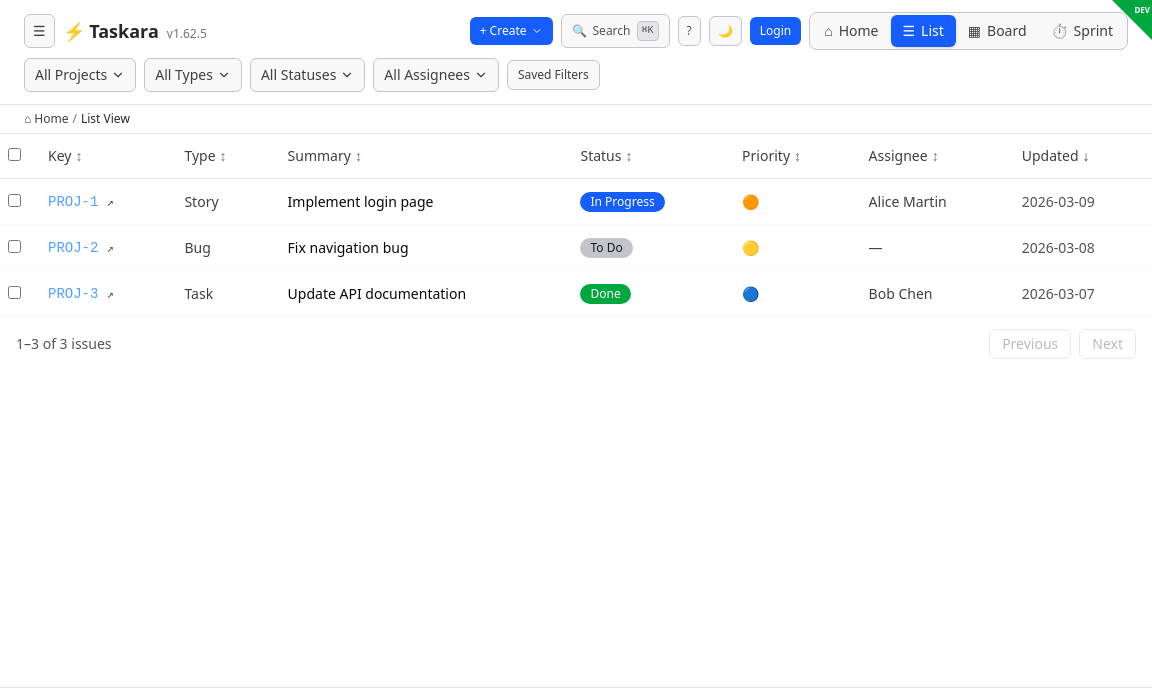
Feature: Rich text description editing › Scenario: Edit button always shown for description › Given the issue has no ADF description, then the Edit button still appears and opens the rich text editor
Click the text "PROJ-1". click: (576, 202)
box: [0,178,1151,224]
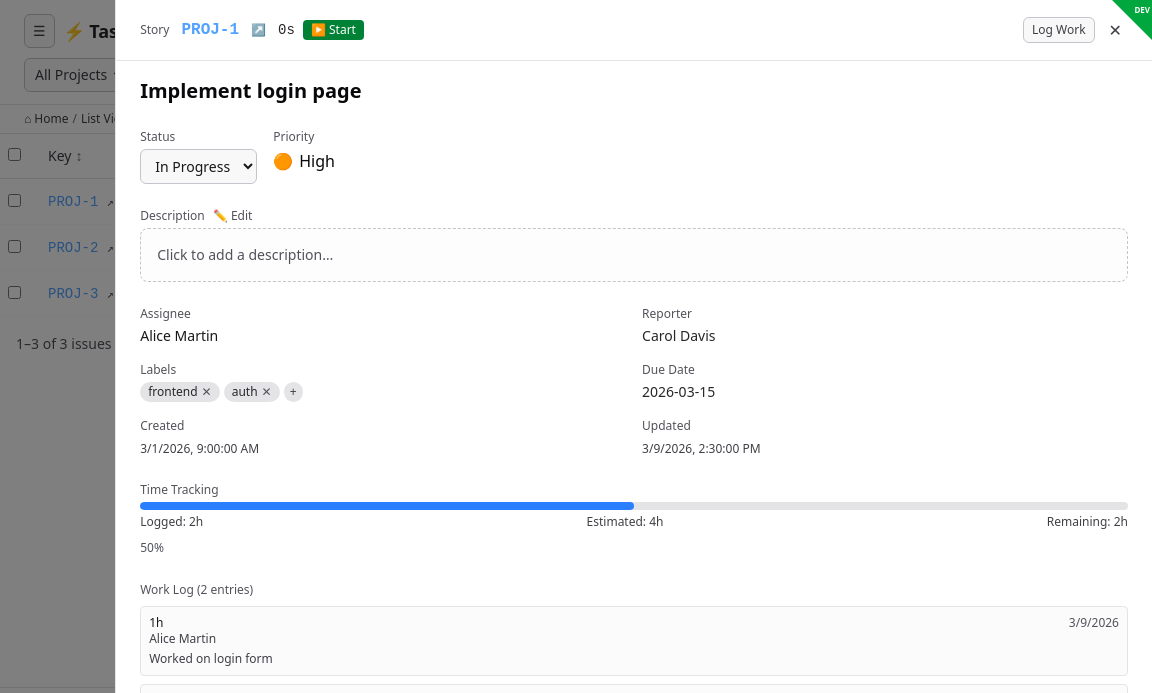
Now the button titled "Edit description" is shown
# Clicking opens the rich text editor
Click the button titled "Edit description". click: (233, 216)
box: [213,208,252,224]
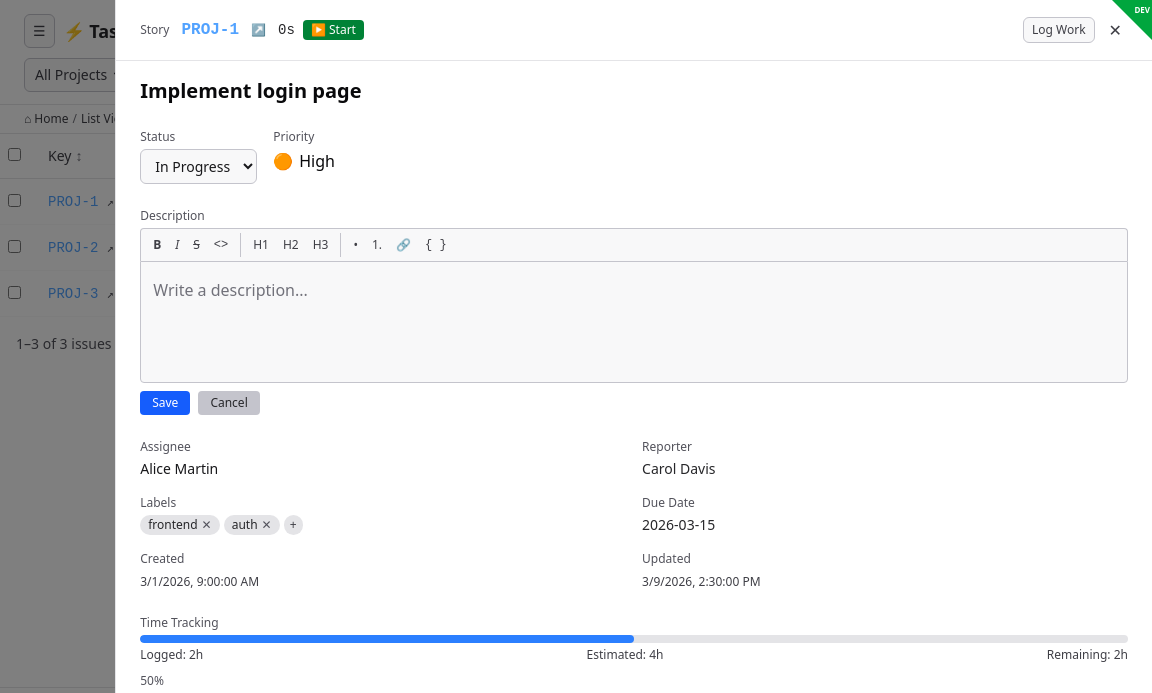
Now the field named "Rich text editor" is shown, box [140,228,1128,415]
